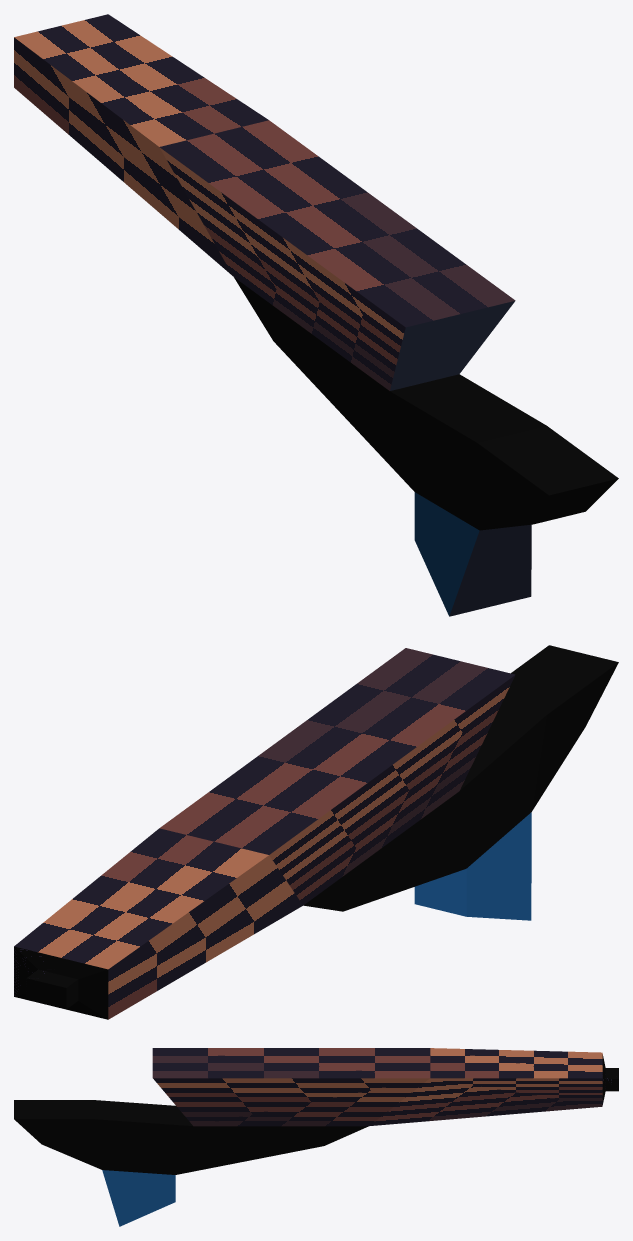
Rendered from gun.glb.
3 renders of one model, top to bottom at view 1: azimuth 30°, elevation 25°; view 2: azimuth 150°, elevation 25°; view 3: azimuth 270°, elevation 25°, orthographic. The views are drawn at different scales.
Visible parts, largest first — view 1: Gun; view 2: Gun; view 3: Gun.
Boxes of the visible parts, x1=… form: Gun: x1=14, y1=14, x2=618, y2=616; Gun: x1=14, y1=645, x2=618, y2=1019; Gun: x1=14, y1=1048, x2=618, y2=1226.
Size of the model in its own units: 0.107 by 0.2522 by 0.9066.
Materials: 1 (1 with a texture image).
